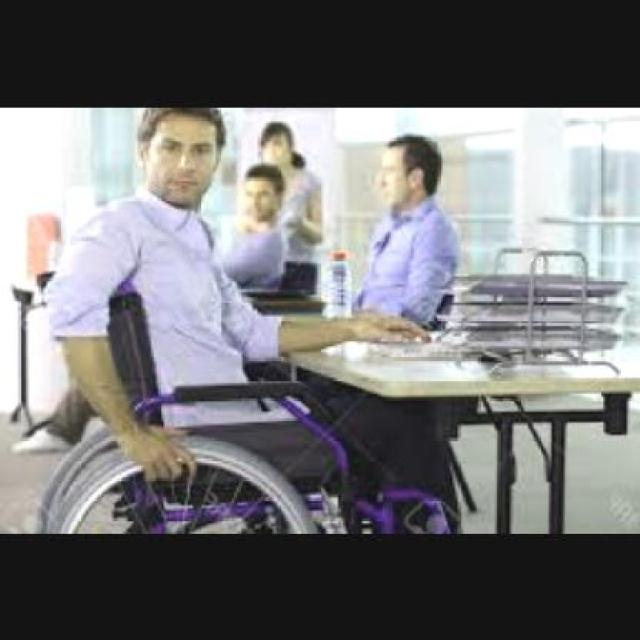wheelchairs: (38, 262, 468, 536)
